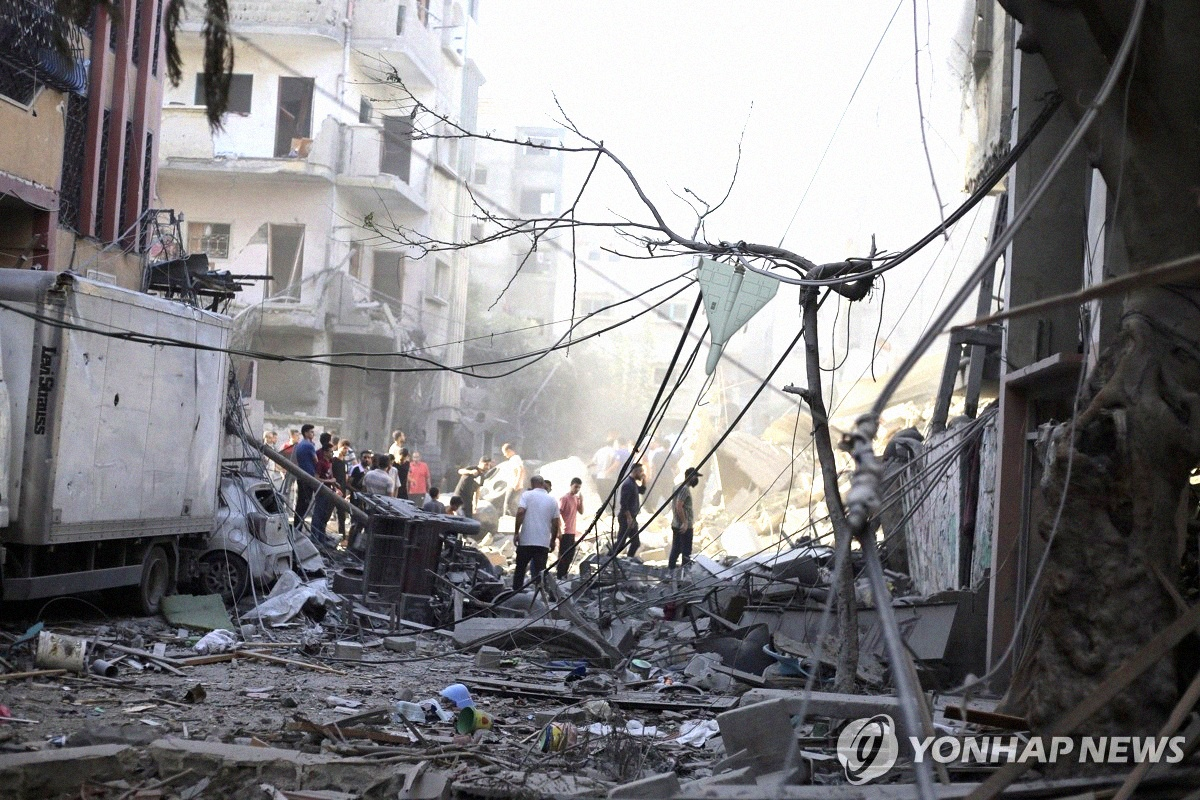shahed: (694, 252, 781, 376)
